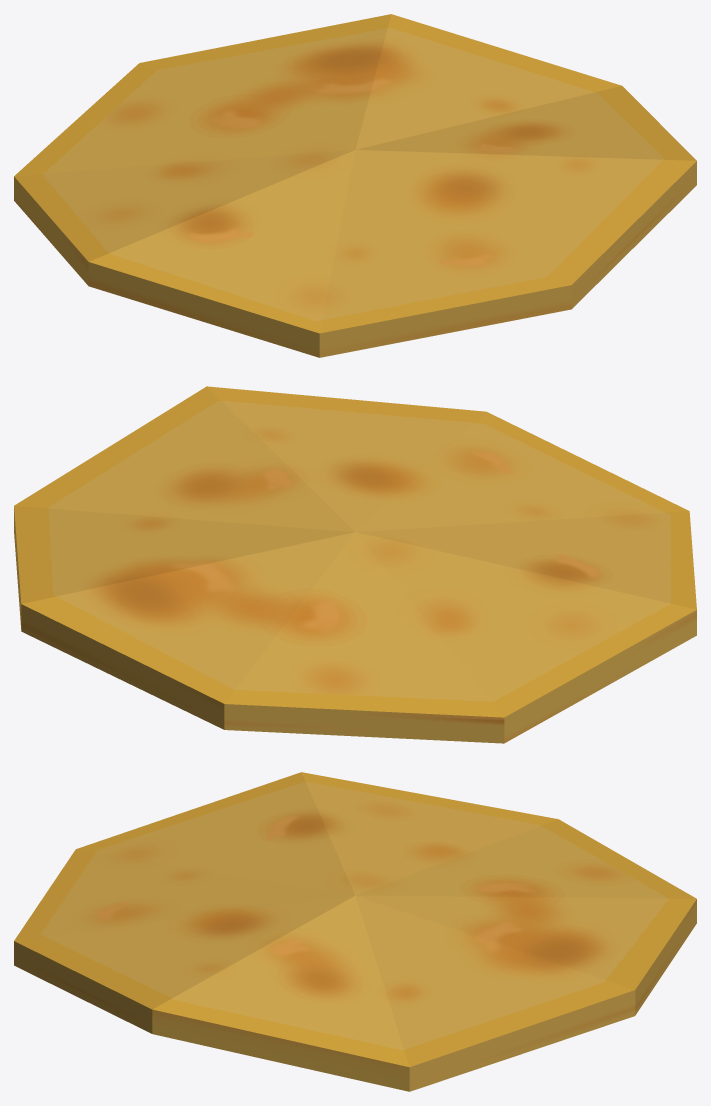
File: Taco_ani.fbx
3 views of the same model, one above another, from view 1: azimuth 30°, elevation 25°; view 2: azimuth 150°, elevation 25°; view 3: azimuth 270°, elevation 25° (orthographic). The views are drawn at different scales.
Visible parts, largest first — view 1: Cylinder.001; view 2: Cylinder.001; view 3: Cylinder.001.
Boxes of the visible parts, bbox=[...] form: Cylinder.001: bbox=[14, 14, 696, 357]; Cylinder.001: bbox=[14, 386, 696, 743]; Cylinder.001: bbox=[14, 772, 696, 1091].
Bounding box in the file's own units: 198 × 22.55 × 198.
1 material, 1 textured.
